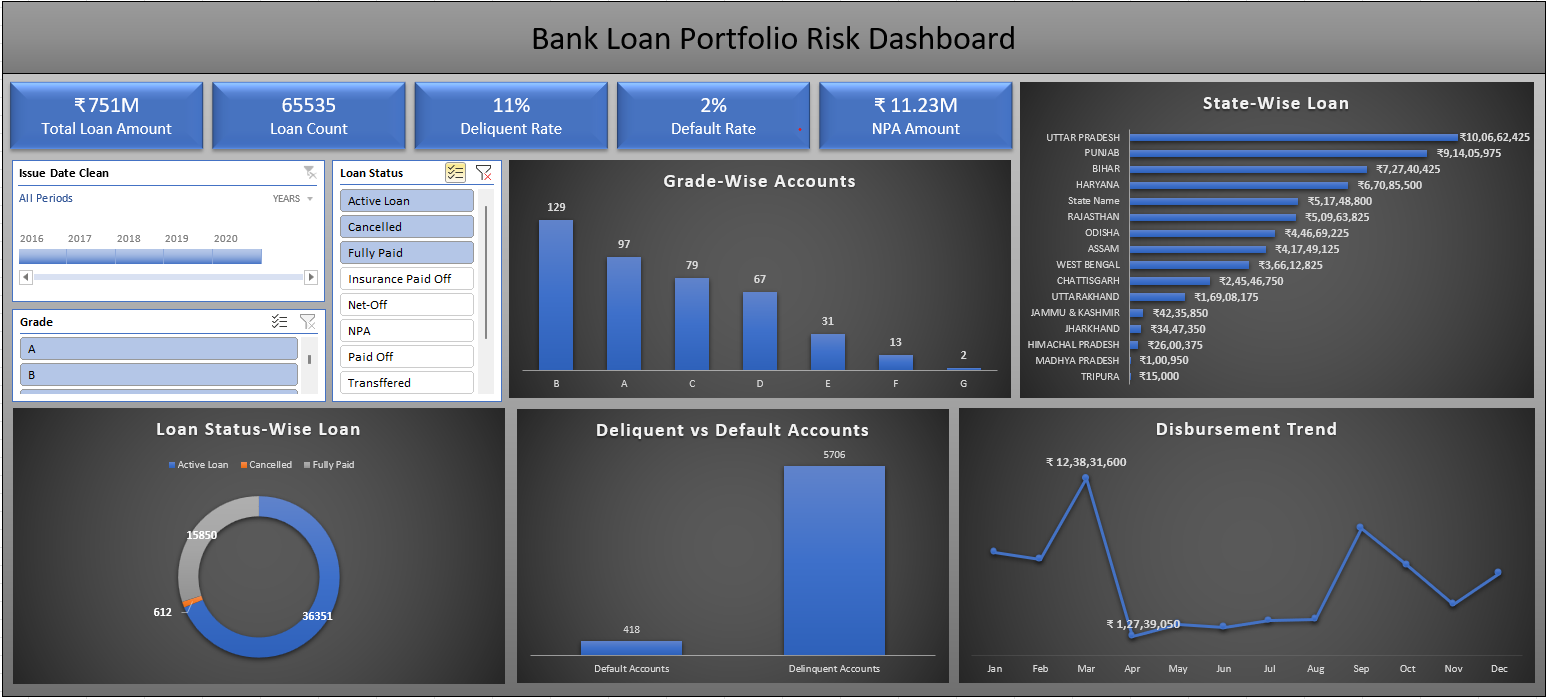

This screenshot's page, from the dashboard's own definition file:
{"tool":"tableau","page":{"name":"Dashboard 2","canvas":[1000,1000],"units":"permille","ordinal":1},"visuals":[{"type":"title","box":[5,9.3,989.9,47.9]},{"type":"image","param":"Image/minimalist-logo-design-representing-a-contemporary-banking-institution-sho","box":[912.6,12.8,81.1,40.9]},{"type":"dashboard-object","box":[880.6,65.4,103.1,60.8]},{"type":"dashboard-object","box":[770.6,66.6,103.1,60.8]},{"type":"filter","title":"Loan Status Distribution","param":"[federated.1kj96c815pwpha1015d5b0dck20x].[none:Disbursement Date (Years):nk]","box":[11.9,68.9,110,199.8]},{"type":"filter","title":"State Wise Revenue","param":"[federated.1kj96c815pwpha1015d5b0dck20x].[none:Religion:nk]","box":[127,68.9,107.5,198.6]},{"type":"worksheet","title":"Filters","mark":"Automatic","box":[321.8,68.9,399.1,75.9]},{"type":"worksheet","title":"KPI","mark":"Text","box":[238.8,151.9,746.1,113.3]},{"type":"worksheet","title":"Grade-Wise Default Rate(Risk View)","mark":"Automatic","rows":["Grade"],"cols":["Calculation_0779867782217734"],"box":[11.3,278,286,351.6]},{"type":"worksheet","title":"Loan Status Distribution","mark":"Bar","rows":["Account ID"],"cols":["Loan Status"],"box":[302.3,278,345.7,354]},{"type":"worksheet","title":"Age Group-Wise Loan","mark":"Automatic","rows":["Age"],"cols":["Loan Amount"],"box":[651.8,279.2,335,352.8]},{"type":"worksheet","title":"State Wise Revenue","mark":"Automatic","rows":["State Name"],"cols":["Calculation_2023415435169792"],"box":[11.3,641.4,388.4,335.3]},{"type":"worksheet","title":"Disbursement Trend(Line Chart)","mark":"Circle","rows":["Loan Amount","Loan Amount"],"cols":["Disbursement Date"],"box":[405.4,642.5,582.6,332.9]}]}

Visuals, with their boxes on the dashboard's canvas, which has no fixed pixel size, in thousandths of its width and height (x1, y1, x2, y2). These are canvas units, not pixel positions in the 1546x699 screenshot, which may show the page scaled, cropped or inside an application window:
title: x1=5 y1=9 x2=995 y2=57
image: x1=913 y1=13 x2=994 y2=54
dashboard-object: x1=881 y1=65 x2=984 y2=126
dashboard-object: x1=771 y1=67 x2=874 y2=127
"Loan Status Distribution" filter: x1=12 y1=69 x2=122 y2=269
"State Wise Revenue" filter: x1=127 y1=69 x2=234 y2=268
"Filters" worksheet: x1=322 y1=69 x2=721 y2=145
"KPI" worksheet (Text marks): x1=239 y1=152 x2=985 y2=265
"Grade-Wise Default Rate(Risk View)" worksheet: x1=11 y1=278 x2=297 y2=630
"Loan Status Distribution" worksheet (Bar marks): x1=302 y1=278 x2=648 y2=632
"Age Group-Wise Loan" worksheet: x1=652 y1=279 x2=987 y2=632
"State Wise Revenue" worksheet: x1=11 y1=641 x2=400 y2=977
"Disbursement Trend(Line Chart)" worksheet (Circle marks): x1=405 y1=642 x2=988 y2=975
